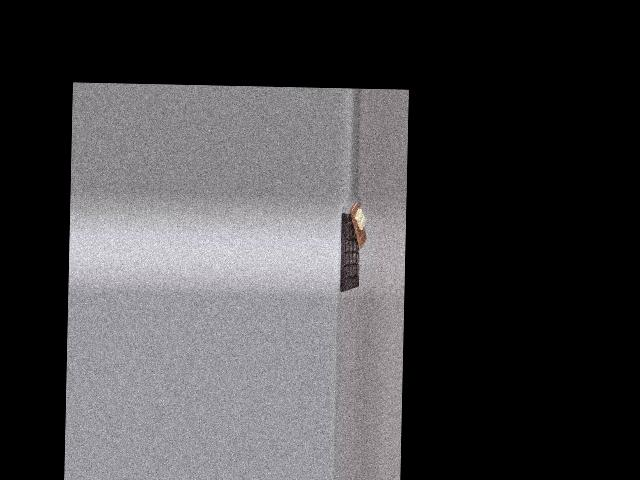chocolate: (337, 208, 363, 292)
